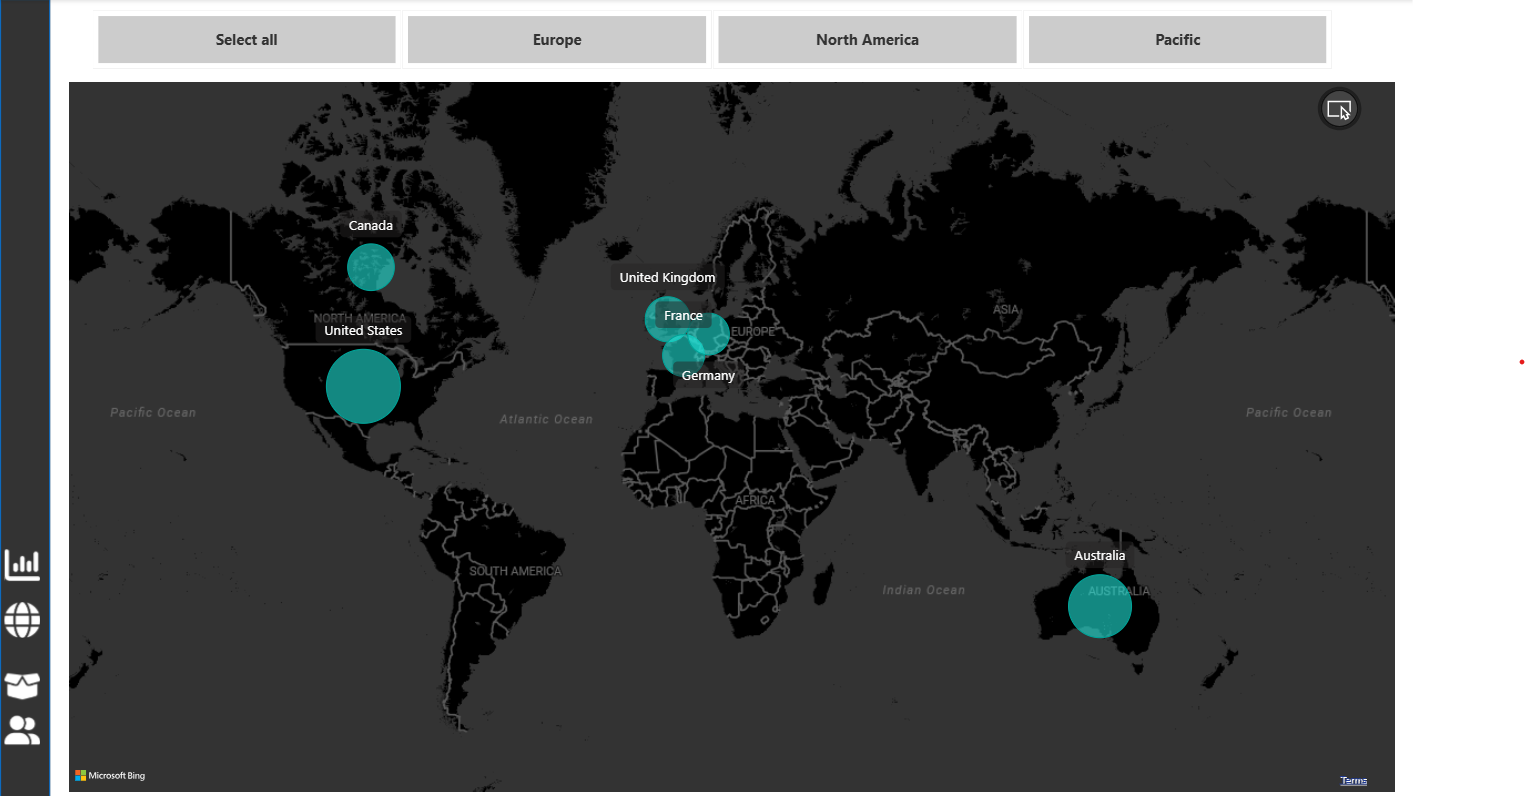

Layout of this report page (visuals, bound fields, positions):
{"tool":"powerbi","page":{"name":"Map","canvas":[1280,720],"ordinal":1},"visuals":[{"type":"shape","box":[0,0,45.2,720.2],"z":0},{"type":"actionButton","box":[0,490.4,45.2,40.4],"z":1000,"group":"g1"},{"type":"map","fields":{"Category":["Territory Lookup.Country"],"Size":["Measure Table.Total Orders"]},"box":[57.5,70,1205,650],"z":1000},{"type":"slicer","fields":{"Values":["Territory Lookup.Continent"]},"box":[57.5,3.8,1167.5,66.2],"z":2000},{"type":"actionButton","box":[0,540.1,45.2,40.4],"z":2000,"group":"g1"},{"type":"group","id":"g1","title":"Navigation Buttons","box":[0,490.4,45.2,189.5],"z":3000},{"type":"actionButton","box":[0,639.6,45.2,40.4],"z":4000,"group":"g1"},{"type":"actionButton","box":[0,599.2,45.2,40.4],"z":5000,"group":"g1"}]}

Visuals, with their boxes in screenshot pixels (x1, y1, x2, y2):
shape: [0, 4, 49, 788]
actionButton: [0, 538, 49, 582]
map - Territory Lookup.Country x Measure Table.Total Orders: [63, 80, 1374, 788]
slicer - Territory Lookup.Continent: [63, 8, 1334, 80]
actionButton: [0, 592, 49, 636]
"Navigation Buttons" group: [0, 538, 49, 744]
actionButton: [0, 700, 49, 744]
actionButton: [0, 656, 49, 700]
